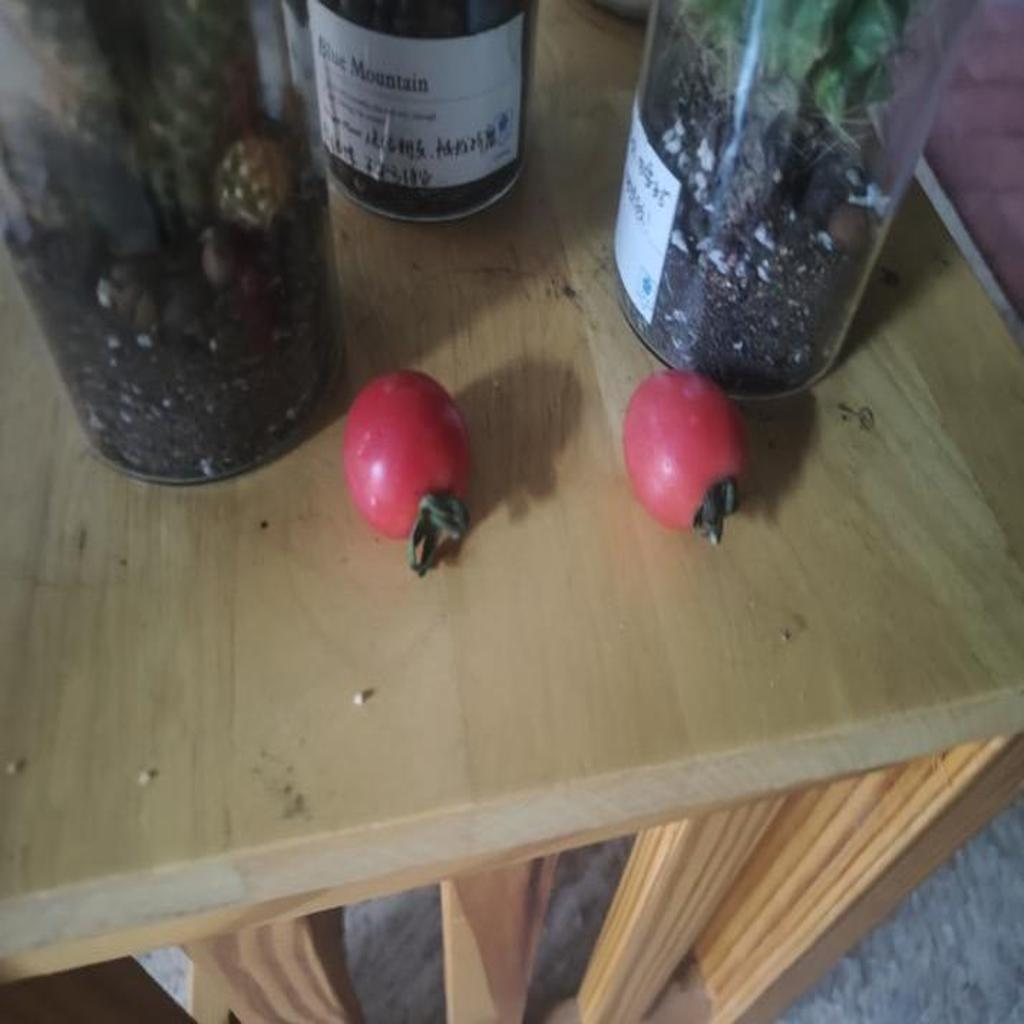tomato: (327, 364, 478, 555), (621, 361, 744, 540)
